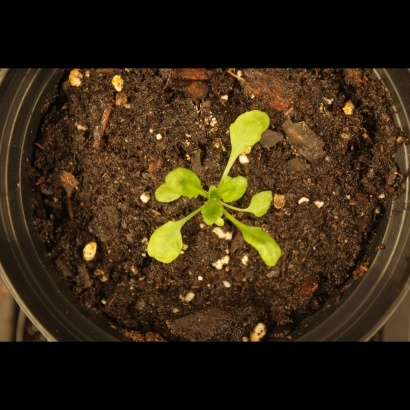leaf: (220, 101, 275, 162), (231, 217, 286, 274), (146, 214, 196, 273), (165, 163, 204, 199), (244, 186, 280, 223), (217, 176, 250, 204), (201, 196, 224, 230), (155, 182, 182, 205)
